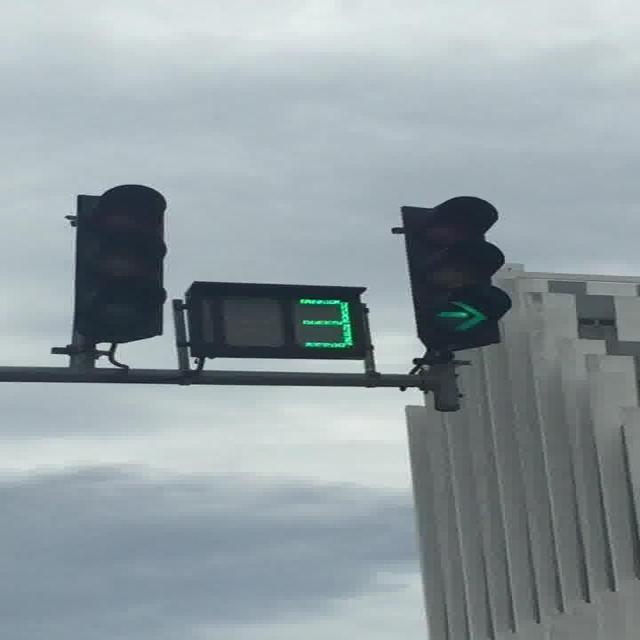green_light: (399, 194, 512, 348)
